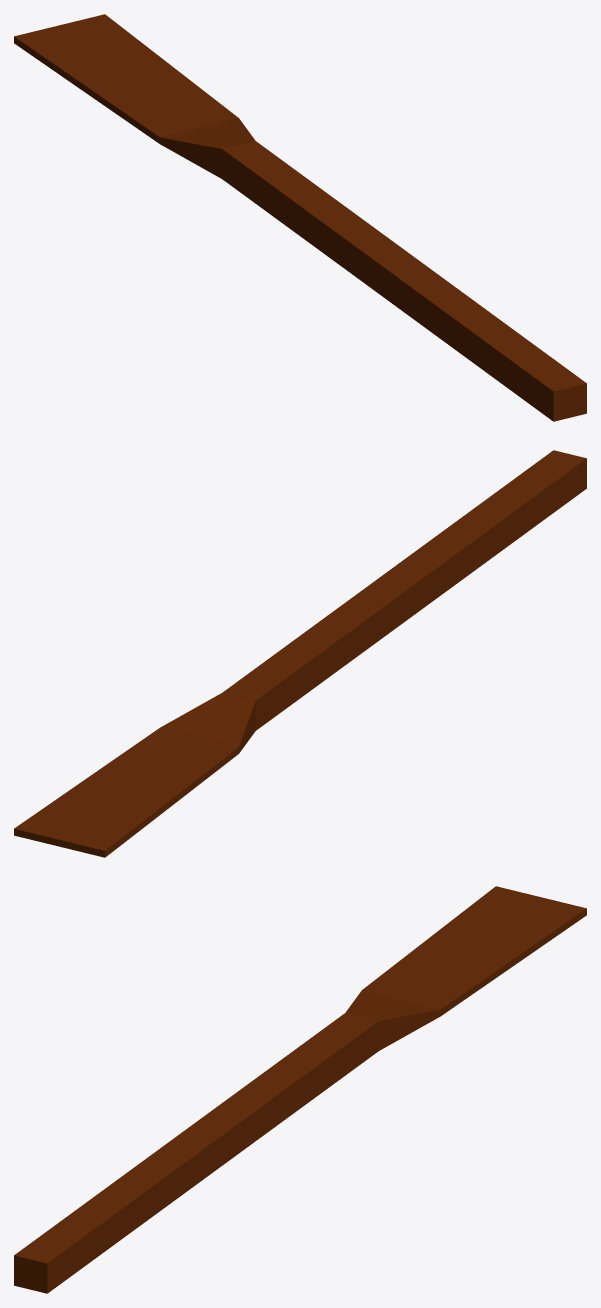
File: ore.fbx
3 views of the same model, one above another, from view 1: azimuth 30°, elevation 25°; view 2: azimuth 150°, elevation 25°; view 3: azimuth 330°, elevation 25° (orthographic).
Visible parts, largest first — view 1: Plane.003; view 2: Plane.003; view 3: Plane.003.
Part boxes in pixels (x1,y1,x2,y2): Plane.003: [14, 14, 586, 421]; Plane.003: [14, 450, 586, 857]; Plane.003: [14, 886, 586, 1293].
Size of the model in its own units: 34.69 by 11 by 337.
